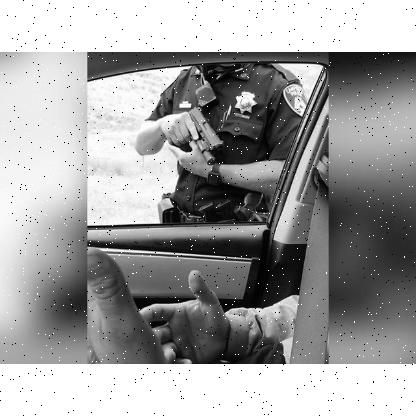gun: (165, 105, 223, 164)
